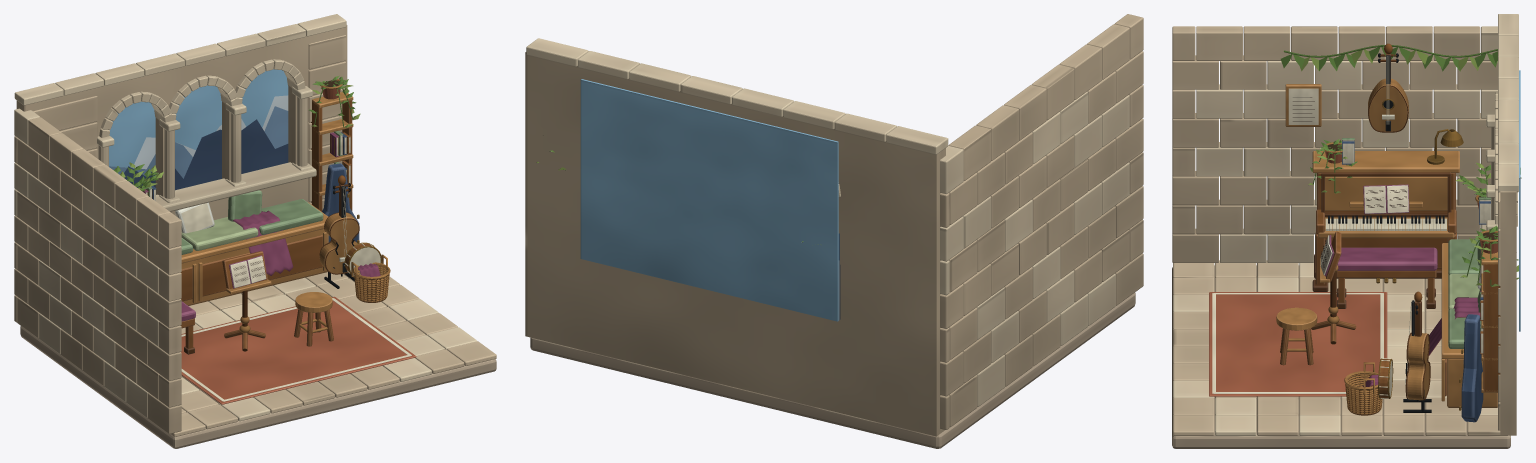
The model's file is rehearsal-nook.glb.
The picture shows the model from 3 angles, left to right: view 1: azimuth 30°, elevation 25°; view 2: azimuth 150°, elevation 25°; view 3: azimuth 270°, elevation 25°; orthographic projection. The views are drawn at different scales.
Parts seen in each view (by area): view 1: 02_Left_Stone_Wall, 03_Arched_Window_Wall, 01_Floor_Base, 15_Rehearsal_Rug, 04_Painted_Alpine_View, 08_Window_Seat, 20_Tall_Bookshelf, 16_Cello, 11_Window_Throw, 12_Practice_Stool, 09_Seat_Cushion_2, 09_Seat_Cushion_3 (+11 smaller); view 2: 03_Arched_Window_Wall, 02_Left_Stone_Wall, 04_Painted_Alpine_View, 01_Floor_Base; view 3: 02_Left_Stone_Wall, 01_Floor_Base, 15_Rehearsal_Rug, 05_Upright_Piano, 03_Arched_Window_Wall, 07_Piano_Bench, 08_Window_Seat, 20_Tall_Bookshelf, 19_Wall_Lute, 29_Wall_Ivy, 18_Cello_Case, 16_Cello (+16 smaller).
Part boxes in pixels (left/top/right/bottom): 02_Left_Stone_Wall: left=14, top=108, right=181, bottom=433; 03_Arched_Window_Wall: left=14, top=14, right=347, bottom=219; 01_Floor_Base: left=20, top=272, right=496, bottom=448; 15_Rehearsal_Rug: left=181, top=296, right=416, bottom=404; 04_Painted_Alpine_View: left=109, top=69, right=288, bottom=190; 08_Window_Seat: left=181, top=202, right=328, bottom=305; 20_Tall_Bookshelf: left=311, top=92, right=353, bottom=211; 16_Cello: left=319, top=175, right=359, bottom=276; 11_Window_Throw: left=233, top=210, right=293, bottom=275; 12_Practice_Stool: left=294, top=292, right=333, bottom=346; 09_Seat_Cushion_2: left=181, top=217, right=258, bottom=250; 09_Seat_Cushion_3: left=259, top=199, right=323, bottom=234; 03_Arched_Window_Wall: left=525, top=38, right=948, bottom=436; 02_Left_Stone_Wall: left=940, top=14, right=1143, bottom=429; 04_Painted_Alpine_View: left=580, top=79, right=840, bottom=321; 01_Floor_Base: left=530, top=292, right=1135, bottom=448; 02_Left_Stone_Wall: left=1172, top=26, right=1497, bottom=262; 01_Floor_Base: left=1172, top=260, right=1510, bottom=448; 15_Rehearsal_Rug: left=1209, top=292, right=1387, bottom=396; 05_Upright_Piano: left=1312, top=151, right=1459, bottom=291; 03_Arched_Window_Wall: left=1480, top=14, right=1518, bottom=435; 07_Piano_Bench: left=1336, top=247, right=1437, bottom=308; 08_Window_Seat: left=1441, top=243, right=1497, bottom=407; 20_Tall_Bookshelf: left=1481, top=249, right=1500, bottom=392; 19_Wall_Lute: left=1368, top=43, right=1408, bottom=132; 29_Wall_Ivy: left=1280, top=45, right=1497, bottom=71; 18_Cello_Case: left=1459, top=314, right=1483, bottom=422; 16_Cello: left=1405, top=291, right=1430, bottom=401.
Bounding box in the file's own units: 6.2 × 4.3 × 5.16.
37 materials, 37 textured.
